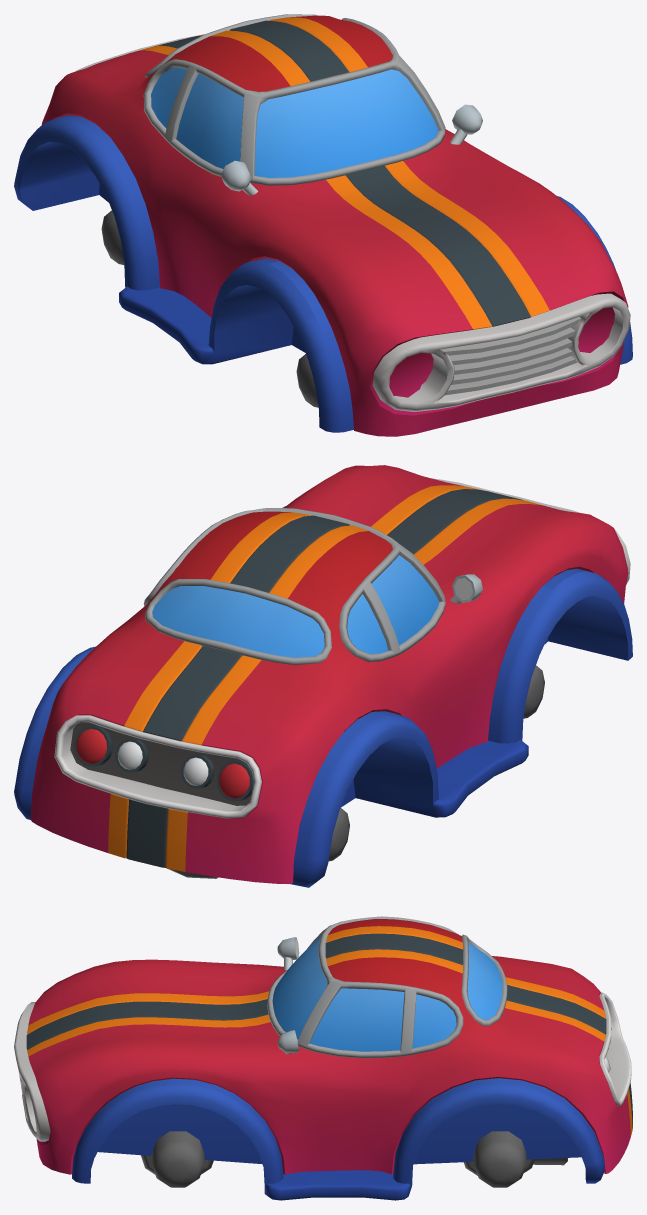
File: Car_01.fbx
3 views of the same model, one above another, from view 1: azimuth 30°, elevation 25°; view 2: azimuth 150°, elevation 25°; view 3: azimuth 270°, elevation 25° (orthographic). The views are drawn at different scales.
Visible parts, largest first — view 1: Car_01; view 2: Car_01; view 3: Car_01.
Part boxes in pixels (bbox=[...]): Car_01: bbox=[14, 14, 632, 436]; Car_01: bbox=[14, 465, 632, 887]; Car_01: bbox=[14, 916, 632, 1200].
Size of the model in its own units: 199 by 388 by 151.
